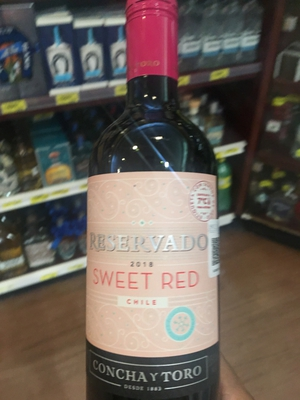reservado sweet red: (73, 27, 247, 400)
